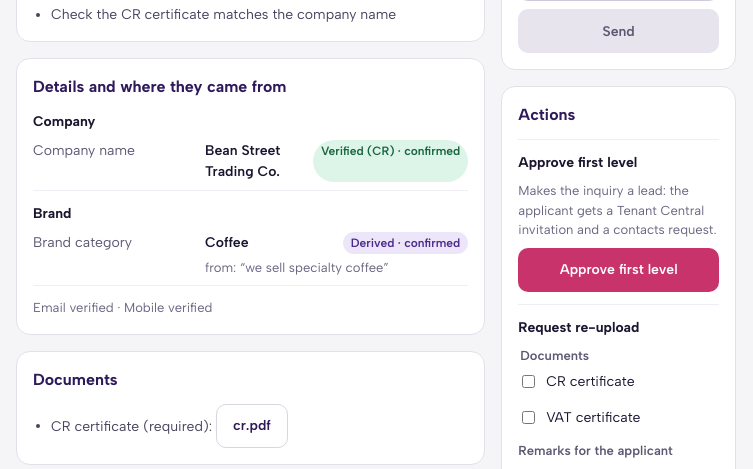
Scenario: Reviewer console › shows the API error when an action is refused
The width and height of the screenshot is (753, 469).
(page scrolled)
Click the button "Approve first level" at (619, 270), box [518,248,719,292]
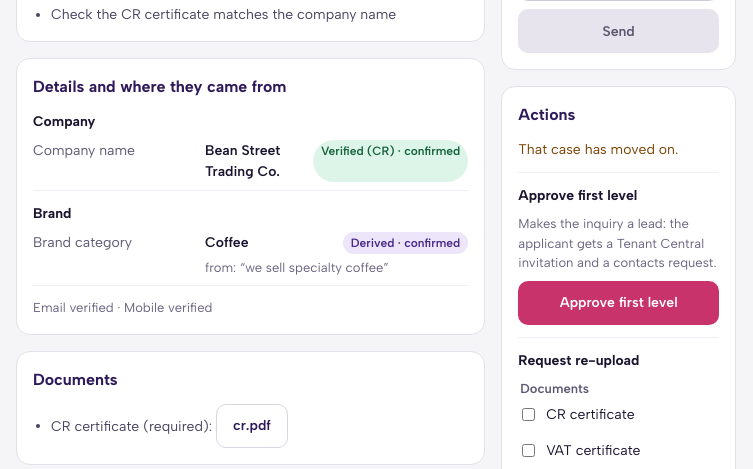
Check: the message reads "That case has moved on.", box [518,141,678,158]
